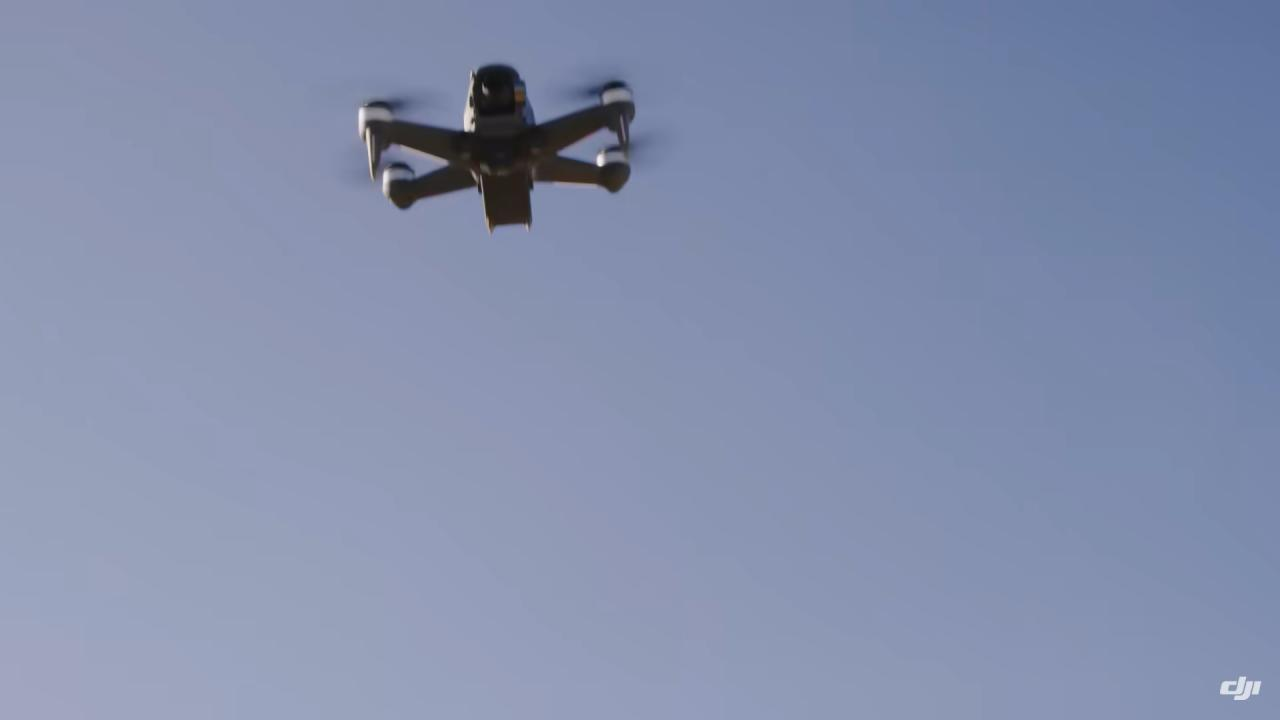Drone: (348, 48, 658, 244)
